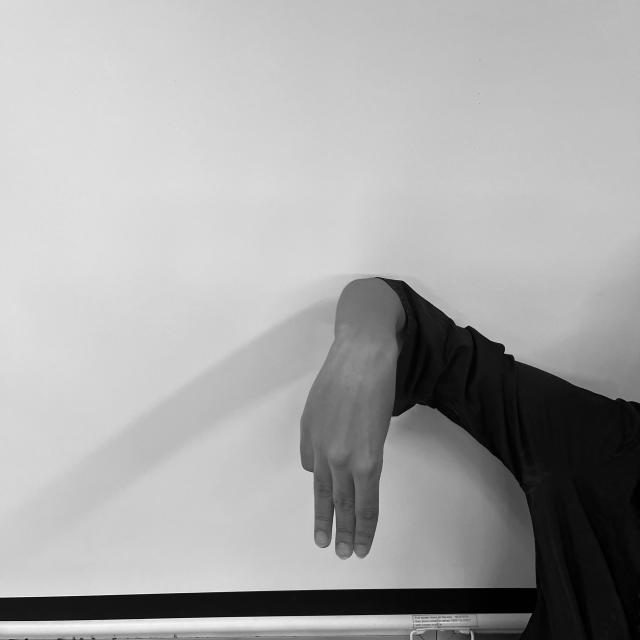Letra M: (292, 342, 399, 565)
